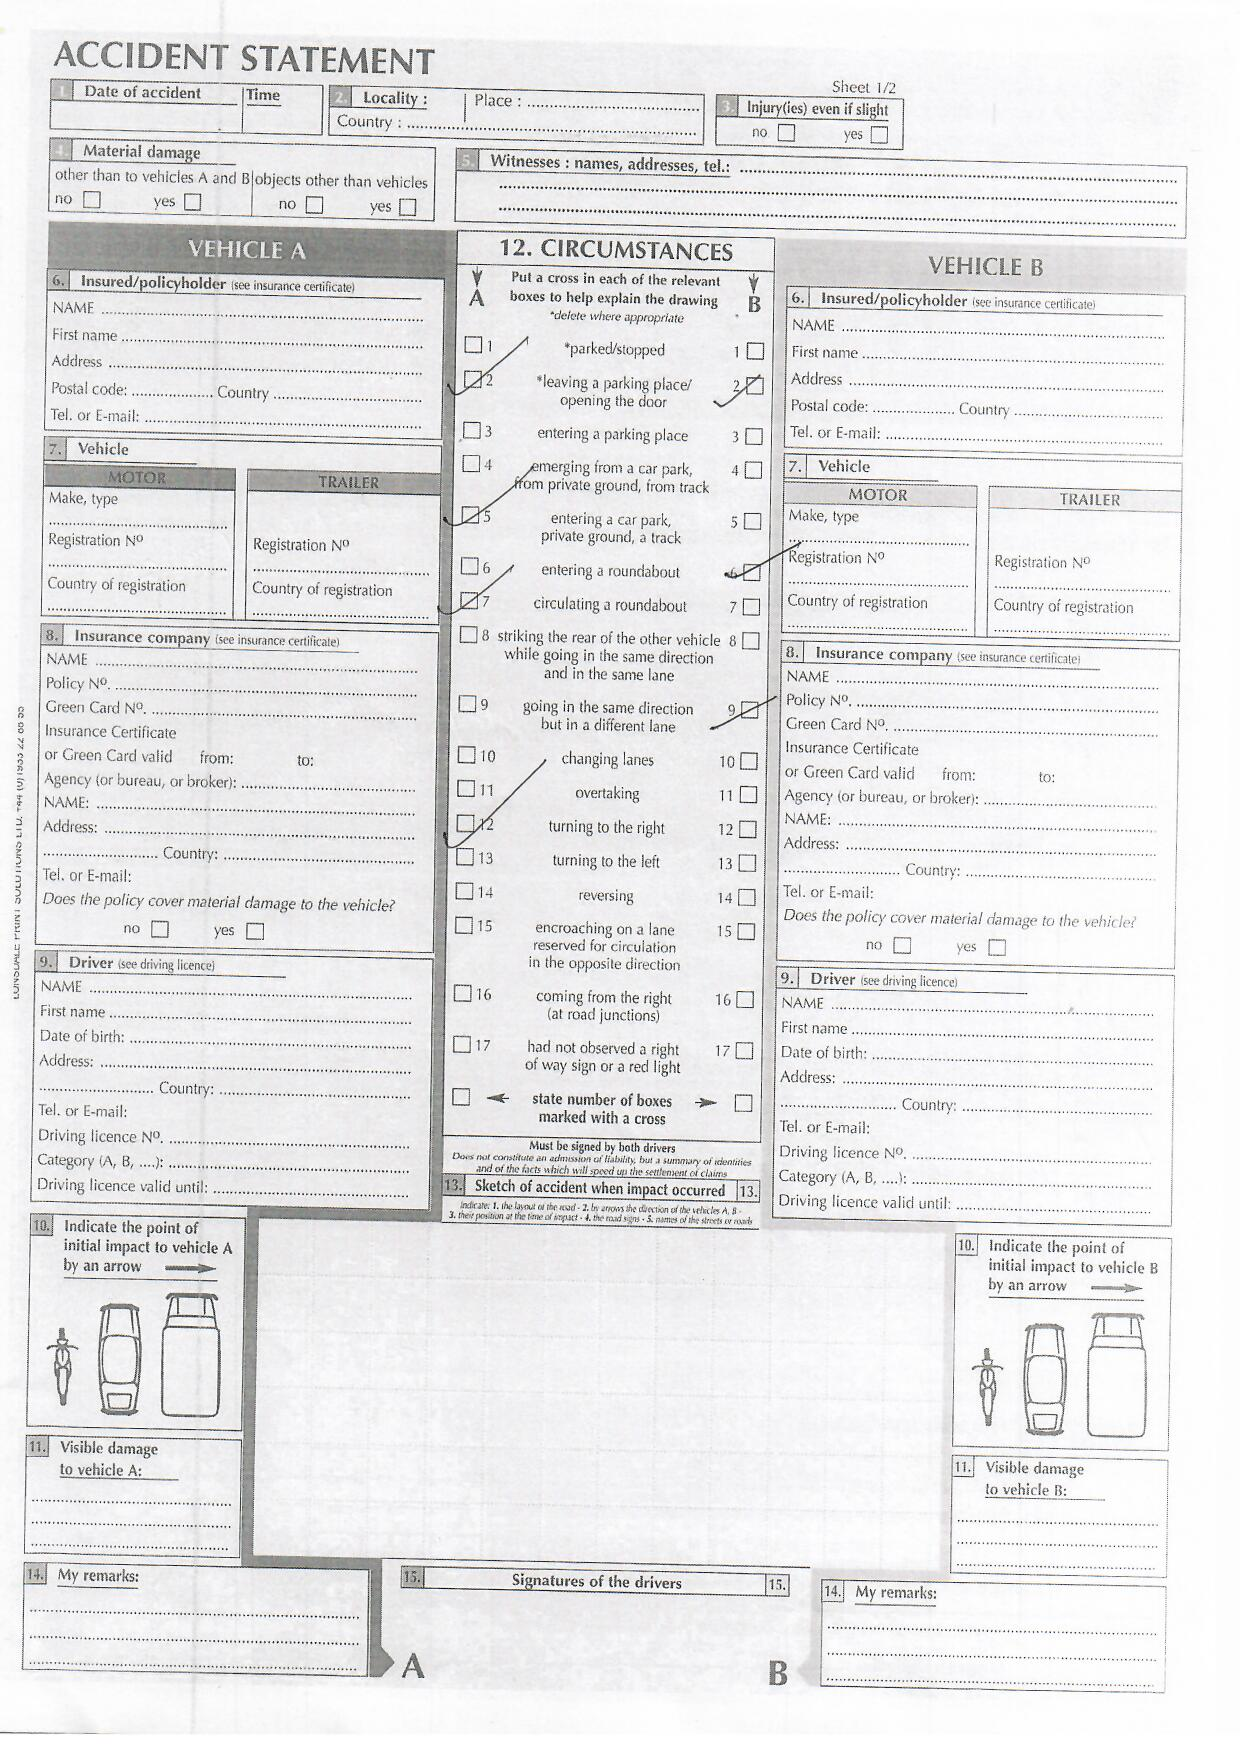a: (458, 501, 484, 532), (456, 587, 482, 619), (451, 809, 479, 838), (741, 374, 769, 401), (735, 697, 764, 723), (458, 366, 484, 392), (739, 561, 765, 588)
